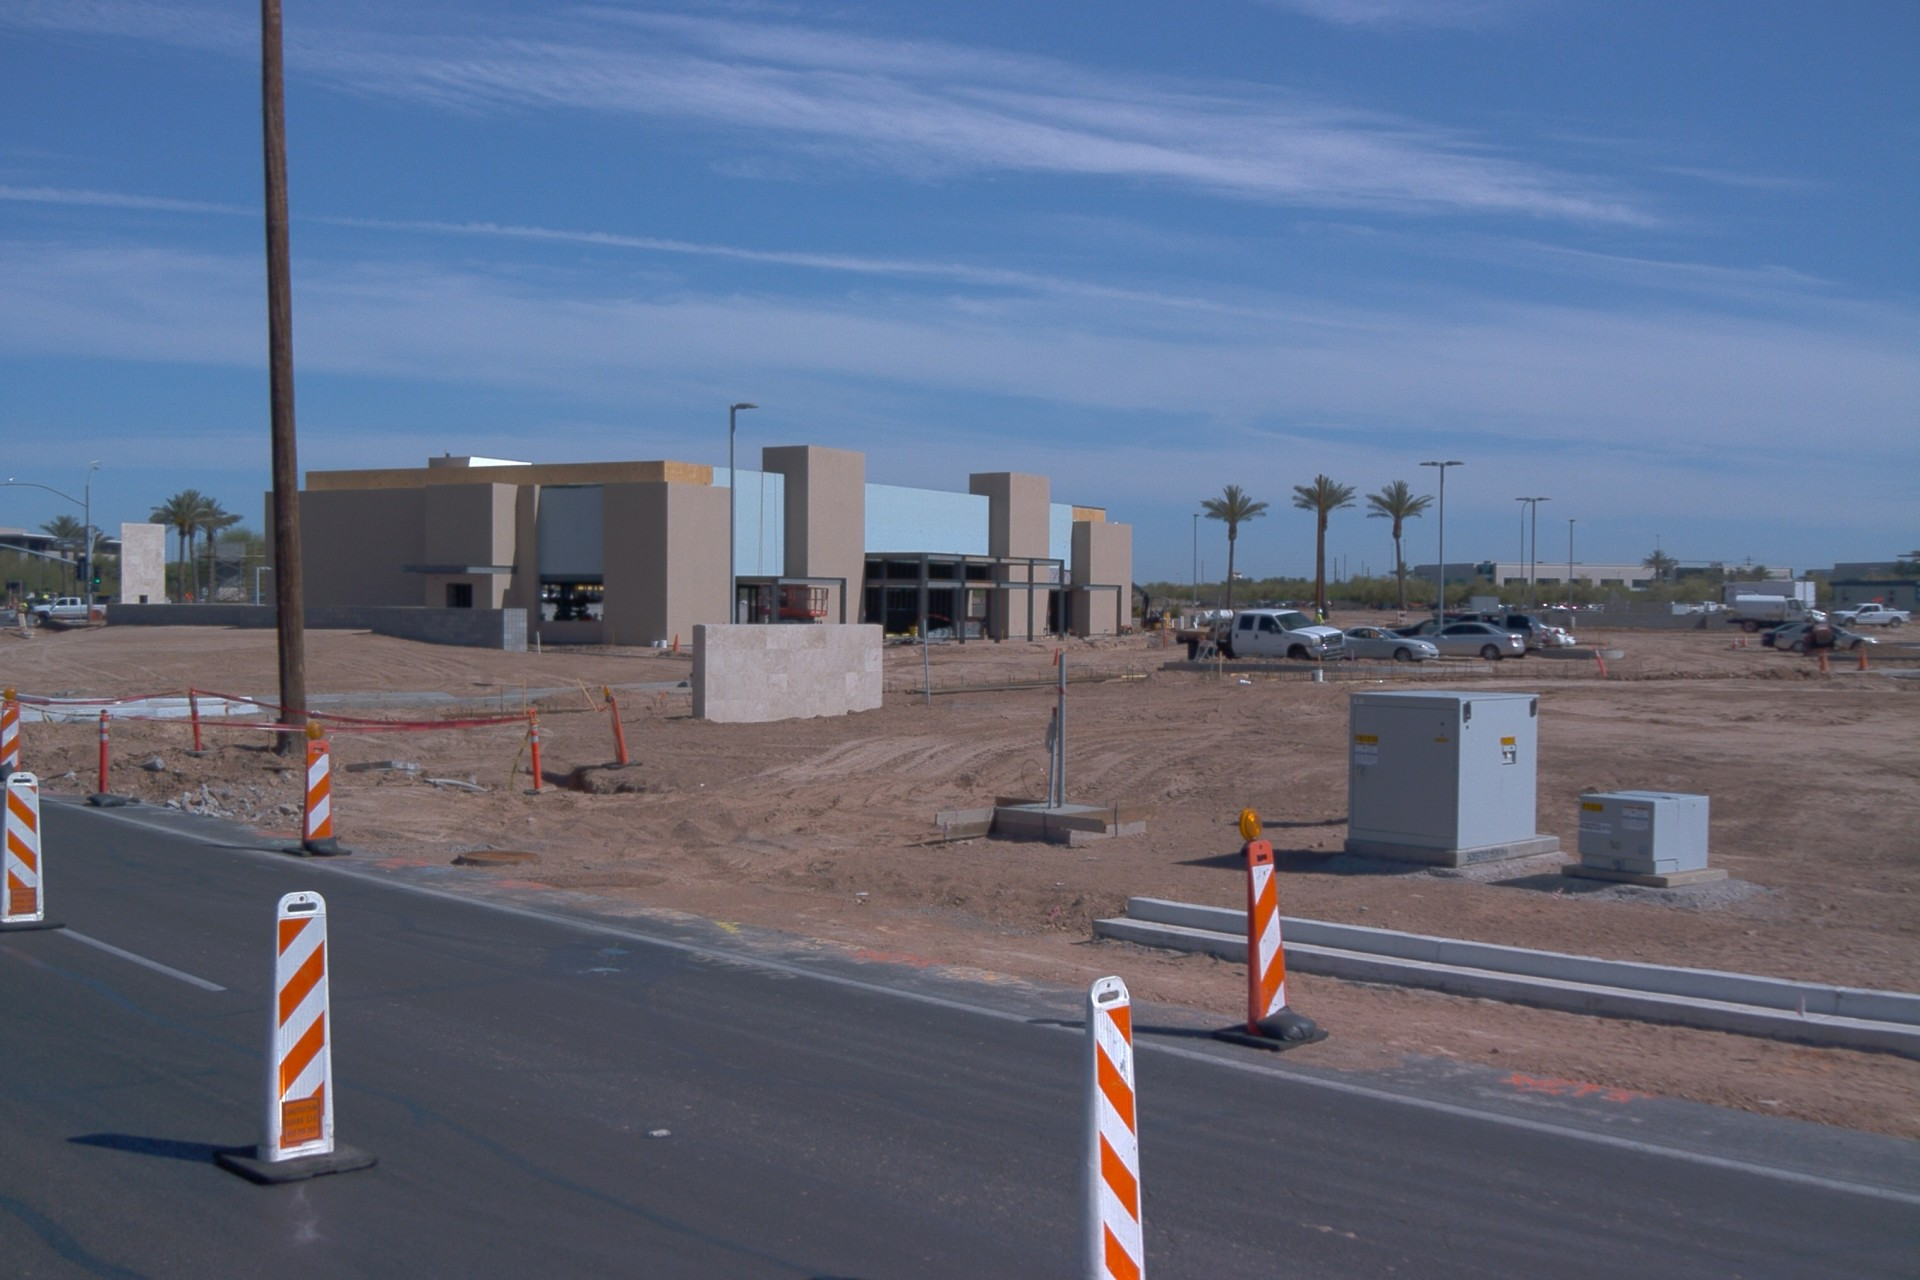TYPE_PEDESTRIAN: (1313, 608, 1324, 627), (1460, 613, 1467, 622)
TYPE_VEHICLE: (1172, 609, 1344, 667), (1413, 607, 1545, 666), (1407, 619, 1528, 662), (1722, 591, 1825, 636), (1344, 621, 1442, 660), (1774, 624, 1880, 657), (31, 595, 108, 624), (1831, 604, 1910, 627), (1761, 625, 1810, 648), (1193, 608, 1233, 630), (1535, 626, 1566, 650), (33, 591, 54, 608), (253, 590, 268, 603), (1440, 612, 1465, 619), (1565, 634, 1576, 646), (1498, 603, 1505, 612)
